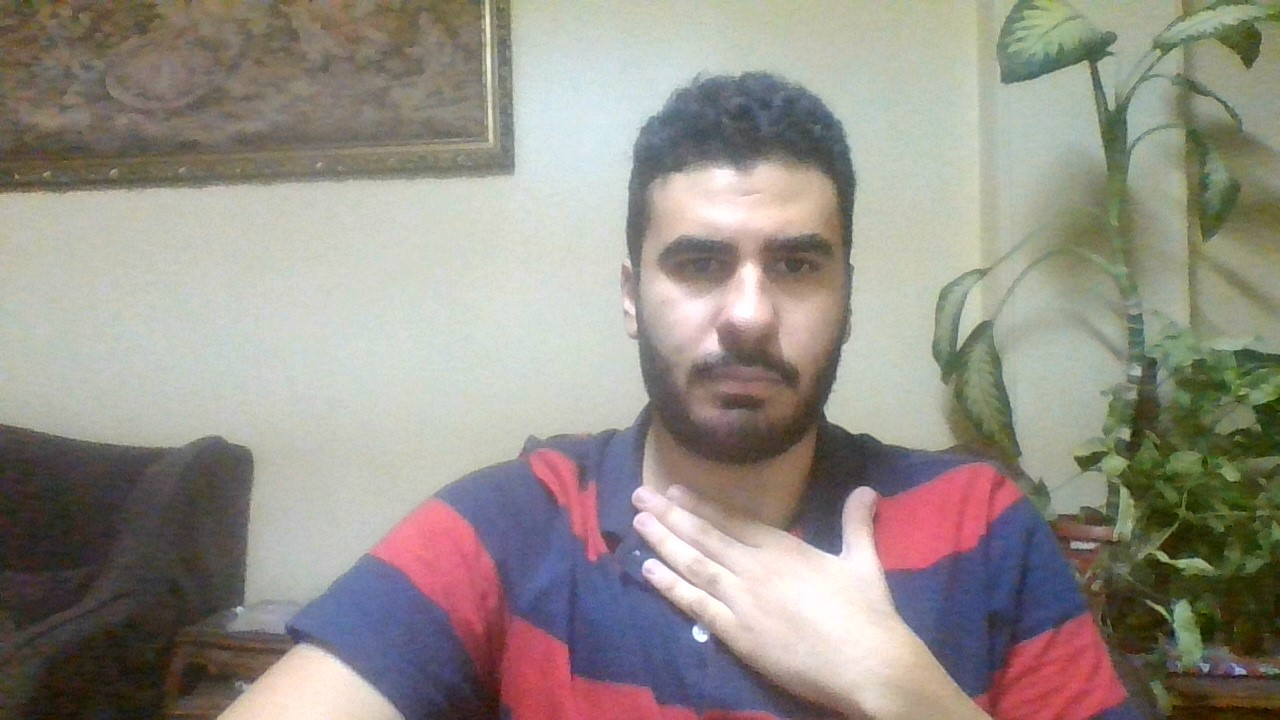please: (606, 471, 958, 707)
